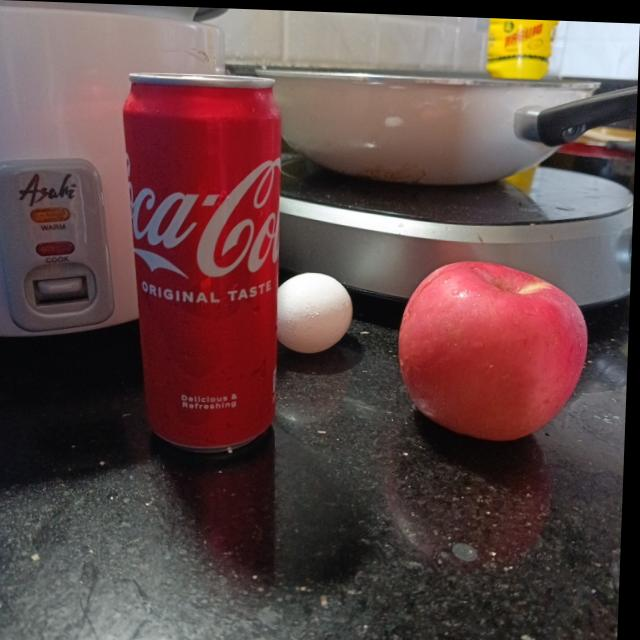apple: (399, 254, 592, 440)
coke: (116, 71, 285, 447)
egg: (278, 270, 358, 352)
